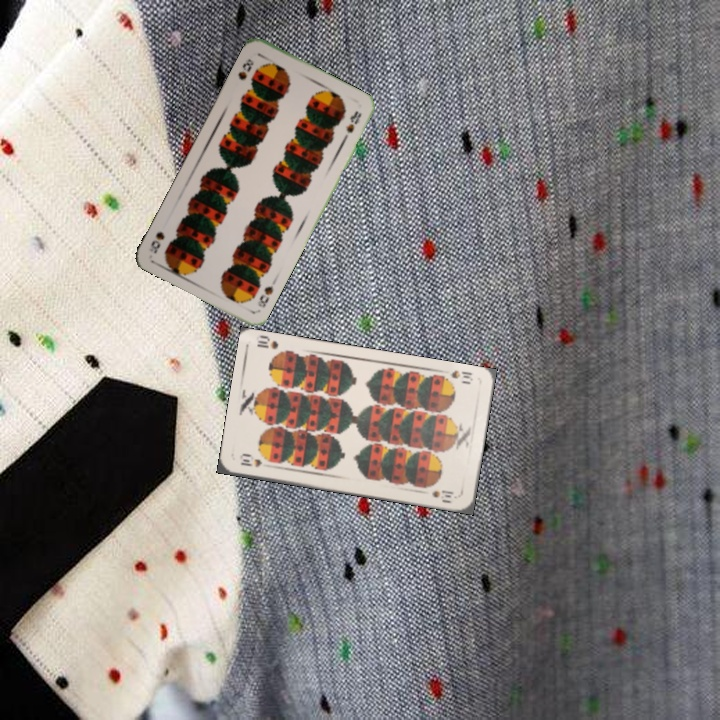S10: (446, 366, 476, 387), (237, 455, 264, 470)
S8: (253, 281, 276, 310), (234, 55, 256, 83)
